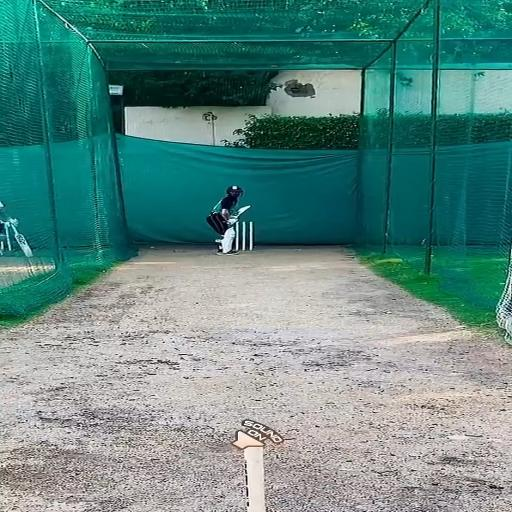Cricket bat: (234, 205, 250, 218)
